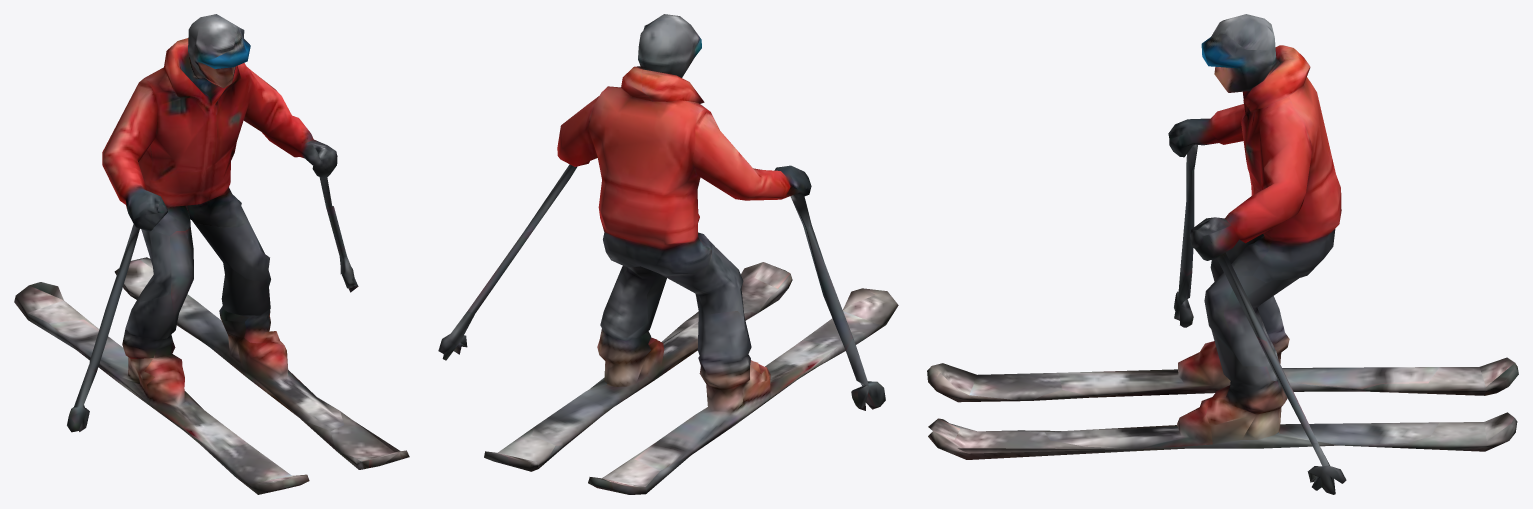
File: dio_skier_red.glb
3 renders of one model, left to right at view 1: azimuth 30°, elevation 25°; view 2: azimuth 150°, elevation 25°; view 3: azimuth 270°, elevation 25°, orthographic. The views are drawn at different scales.
Parts seen in each view (by area): view 1: tripo_part_4; view 2: tripo_part_4; view 3: tripo_part_4.
Part boxes in pixels (x1,y1,x2,y2): tripo_part_4: [14, 14, 409, 494]; tripo_part_4: [438, 14, 898, 494]; tripo_part_4: [927, 14, 1518, 494].
Size of the model in its own units: 0.1984 by 0.1959 by 0.2547.
1 material, 1 textured.
